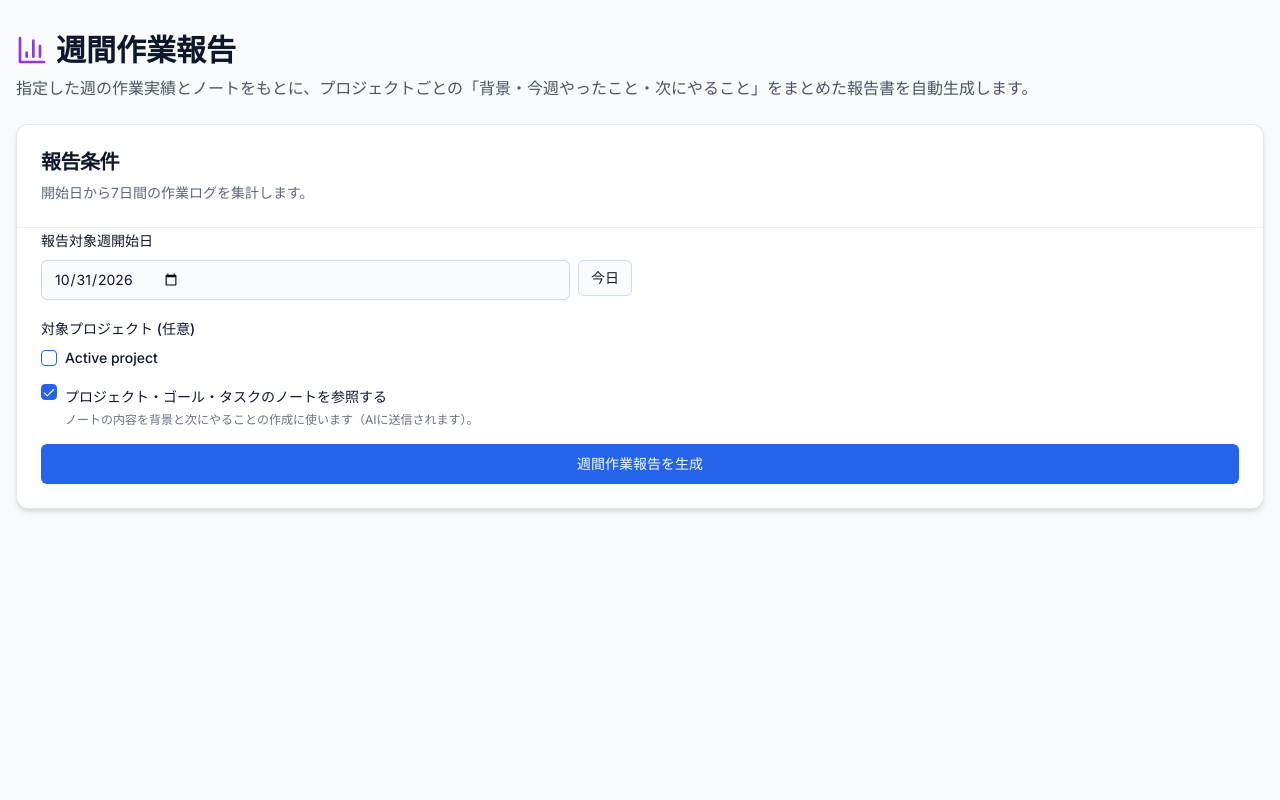
weekly report page › links to the notes used as report context
The image size is (1280, 800).
Click the button "週間作業報告を生成" at (640, 464), box [41,444,1239,484]
(page scrolled)
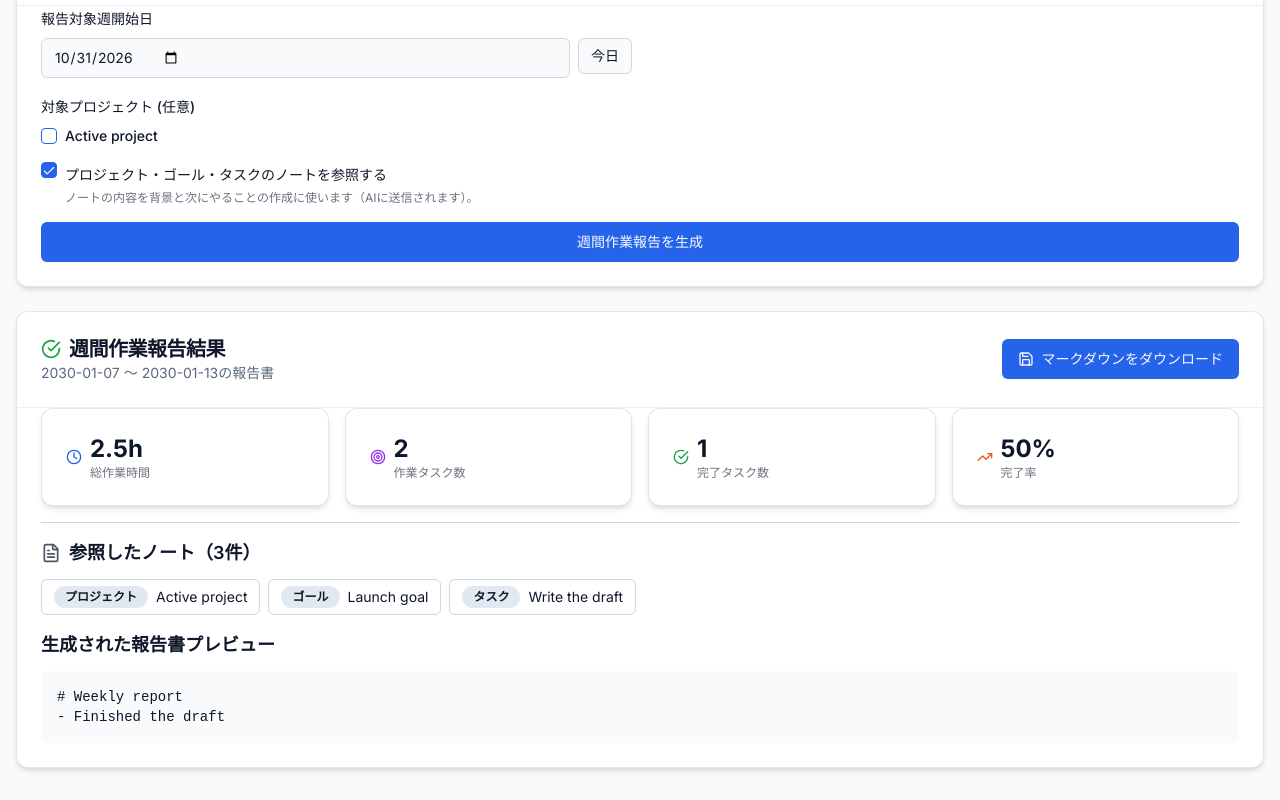
Check: the heading "参照したノート（3件）" is shown, box [41,542,260,563]
